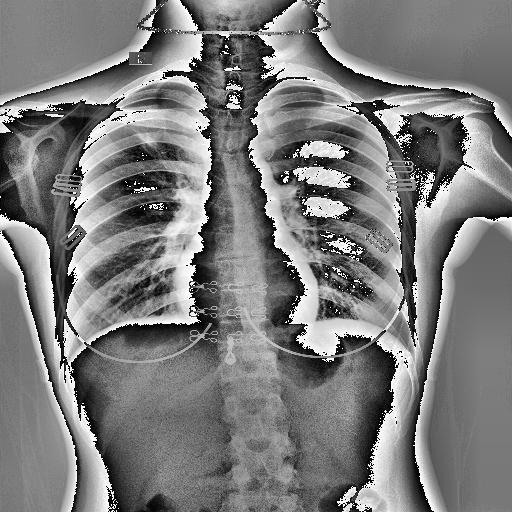13- Pulmonary fibrosis: (128, 122, 180, 176), (124, 122, 164, 150), (127, 122, 160, 152)
